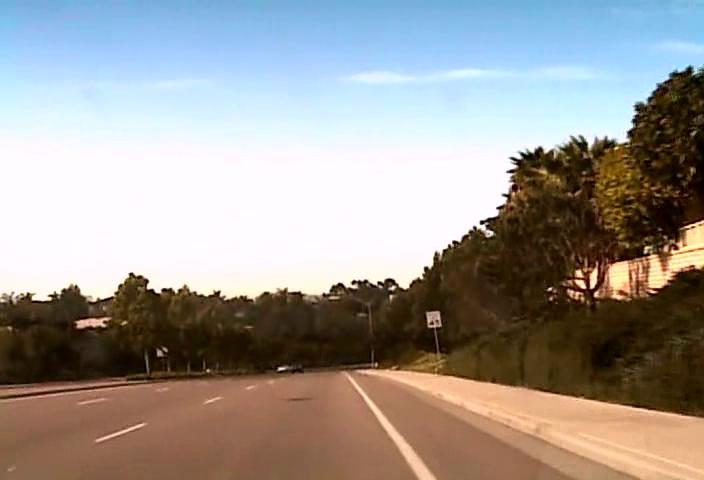speedLimit45: (425, 310, 442, 328)
